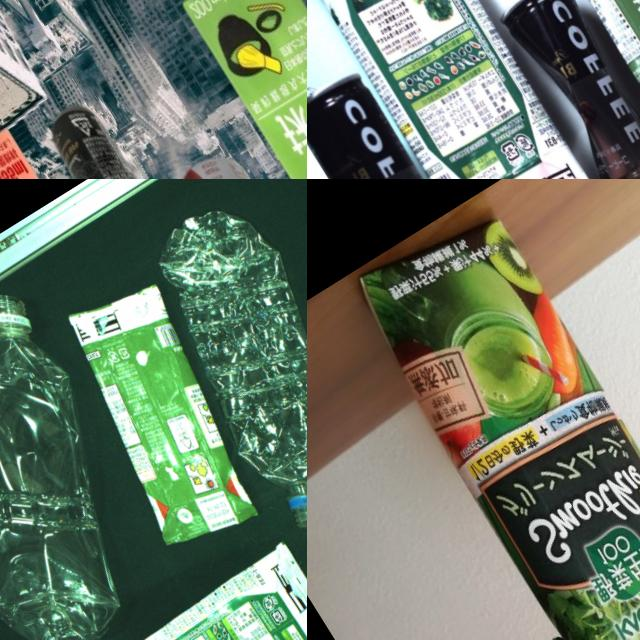Aluminium Foil: (337, 201, 640, 640), (34, 264, 271, 558), (307, 0, 606, 179), (87, 523, 307, 640), (168, 0, 307, 179), (506, 0, 640, 165), (0, 121, 217, 179)
Can: (490, 0, 640, 179), (307, 65, 481, 179), (30, 99, 196, 179)
Transparent Plastic Bottle: (115, 191, 307, 558), (0, 284, 196, 640)
